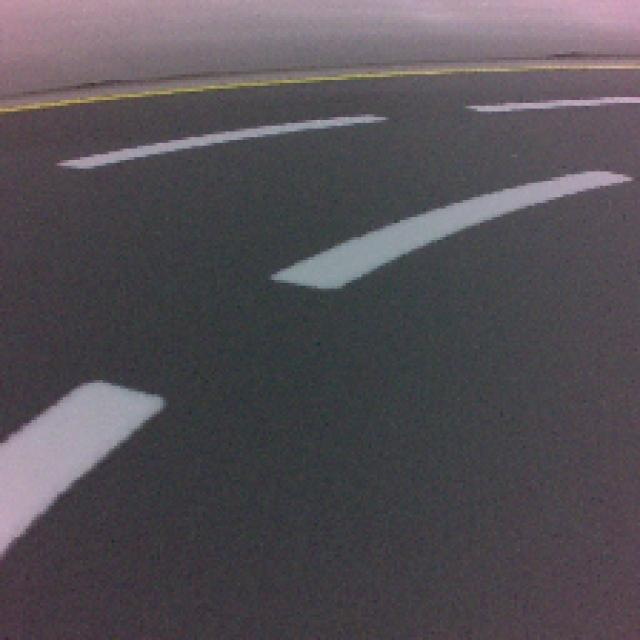Guard rail: (0, 379, 165, 556)
